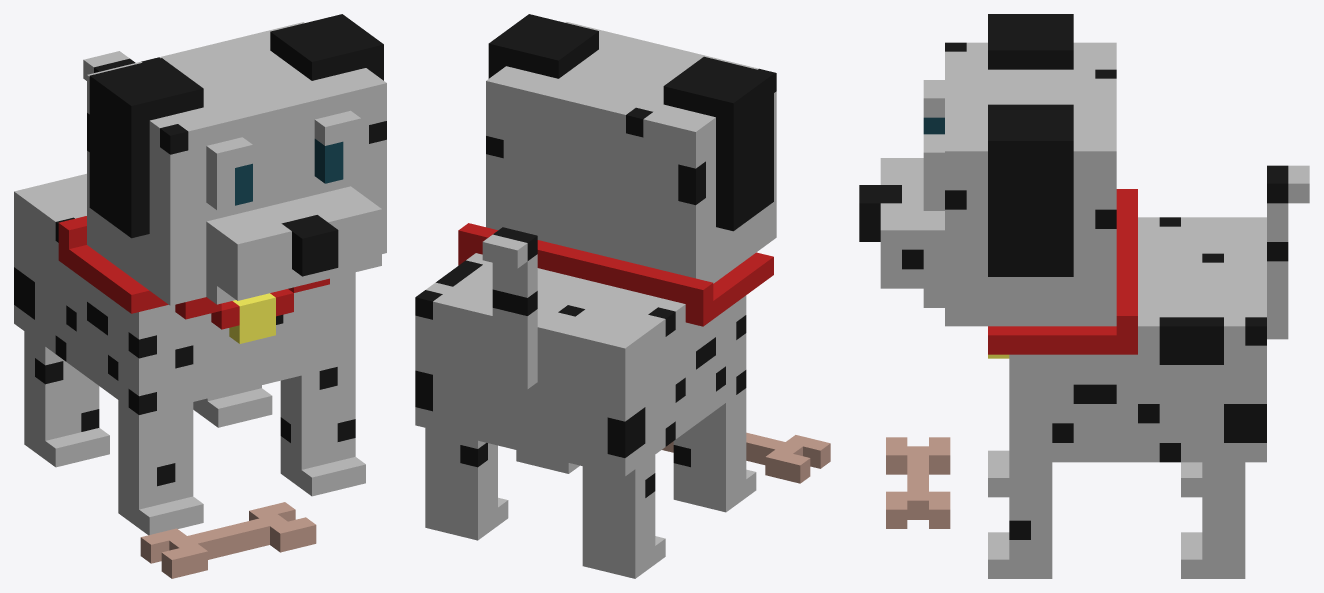
Rendered from lv26 dog.fbx.
3 views of the same model, side by side, from view 1: azimuth 30°, elevation 25°; view 2: azimuth 150°, elevation 25°; view 3: azimuth 270°, elevation 25° (orthographic). The views are drawn at different scales.
Visible parts, largest first — view 1: pCube997, pCube1194, pCube191, pCube1058, pCube493, pCube569, pCube100, pCube438, pCube423, pCube973, pCube722, pCube492 (+85 smaller); view 2: pCube672, pCube569, pCube955, pCube787, pCube489, pCube451, pCube1383, pCube191, pCube673, pCube685, pCube669, pCube622 (+44 smaller); view 3: pCube926, pCube1351, pCube1261, pCube1083, pCube1263, pCube111, pCube108, pCube128, pCube886, pCube91, pCube113, pCube868 (+30 smaller).
Part boxes in pixels (<box>): pCube997: <box>314,115,343,145</box>; pCube1194: <box>207,397,236,427</box>; pCube191: <box>161,548,189,578</box>; pCube1058: <box>301,465,329,496</box>; pCube493: <box>121,283,149,313</box>; pCube569: <box>58,218,86,248</box>; pCube100: <box>206,141,234,172</box>; pCube438: <box>292,227,320,257</box>; pCube423: <box>227,232,255,262</box>; pCube973: <box>301,50,329,80</box>; pCube722: <box>45,436,73,467</box>; pCube492: <box>121,94,149,124</box>; pCube672: <box>607,337,635,366</box>; pCube569: <box>685,278,713,308</box>; pCube955: <box>541,49,568,78</box>; pCube787: <box>500,239,527,268</box>; pCube489: <box>716,91,743,121</box>; pCube451: <box>678,120,705,150</box>; pCube1383: <box>783,454,810,483</box>; pCube191: <box>803,439,830,468</box>; pCube673: <box>617,480,645,505</box>; pCube685: <box>617,553,645,578</box>; pCube669: <box>607,414,635,439</box>; pCube622: <box>708,450,736,475</box>; pCube926: <box>1073,326,1095,354</box>; pCube1351: <box>1073,142,1095,170</box>; pCube1261: <box>1288,174,1309,203</box>; pCube1083: <box>1116,306,1137,335</box>; pCube1263: <box>1267,174,1288,203</box>; pCube111: <box>988,41,1009,69</box>; pCube108: <box>1009,41,1030,69</box>; pCube128: <box>966,142,987,170</box>; pCube886: <box>945,142,966,170</box>; pCube91: <box>923,89,944,117</box>; pCube113: <box>1031,41,1052,69</box>; pCube868: <box>907,491,928,519</box>.
Size of the model in its own units: 14.5 by 23 by 21.
